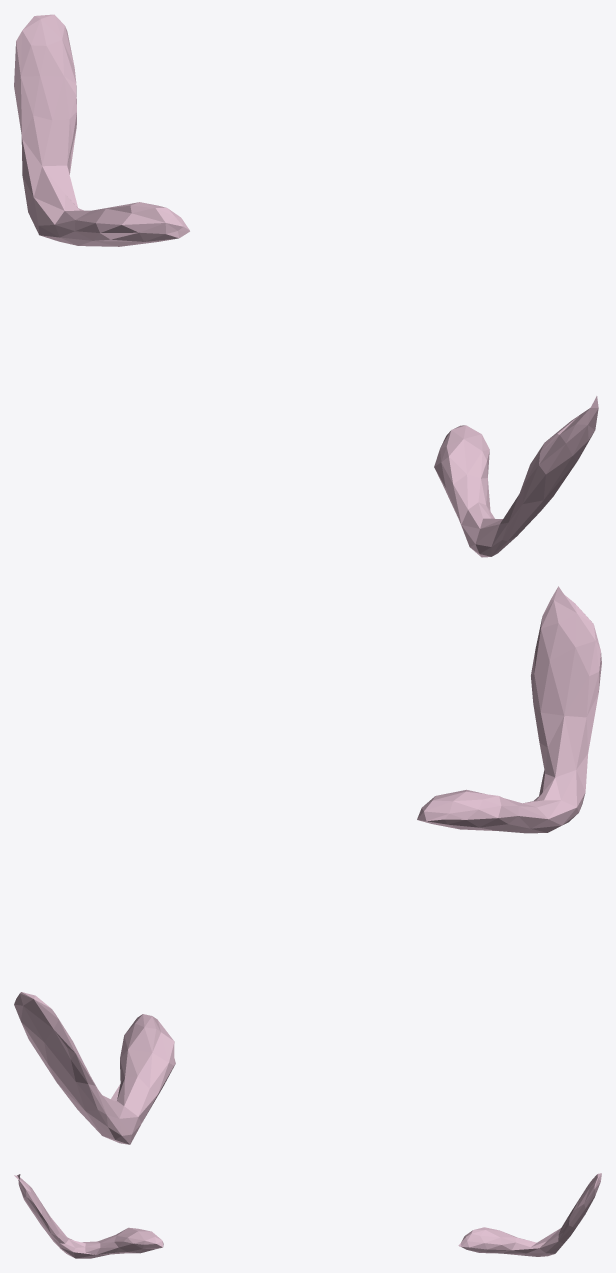
The picture shows the model from 3 angles, top to bottom: view 1: azimuth 30°, elevation 25°; view 2: azimuth 150°, elevation 25°; view 3: azimuth 270°, elevation 25°; orthographic projection. The views are drawn at different scales.
Parts seen in each view (by area): view 1: 203.obj; view 2: 203.obj; view 3: 203.obj.
Boxes of the visible parts, <box> form: 203.obj: <box>14,14,598,557</box>; 203.obj: <box>14,586,601,1144</box>; 203.obj: <box>14,1173,601,1258</box>.
Bounding box in the file's own units: 263 × 597 × 3199.
